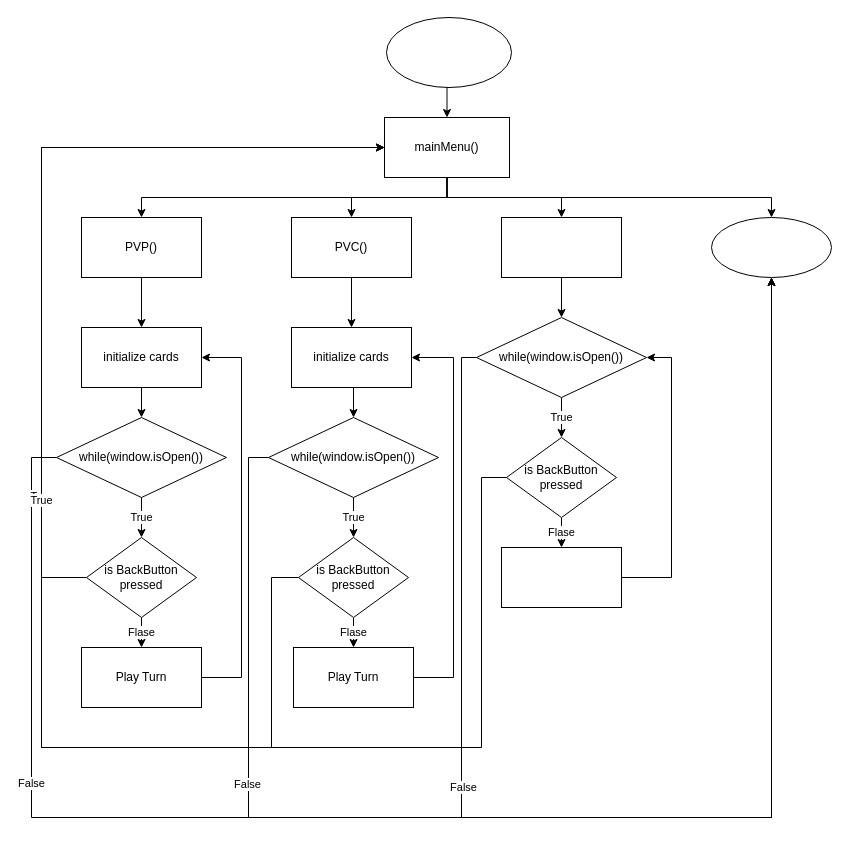
Some shapes in this 849 by 843 pixel diagram are drawn without their labels. The shapes that lost their labels are listed below. From the top down, each one's box as (x1, y1, x2, y2) in pixels, then its label:
(386, 16, 512, 88): Start
(500, 216, 622, 278): H2P()
(710, 216, 832, 278): Exit
(500, 546, 622, 608): Show rules
